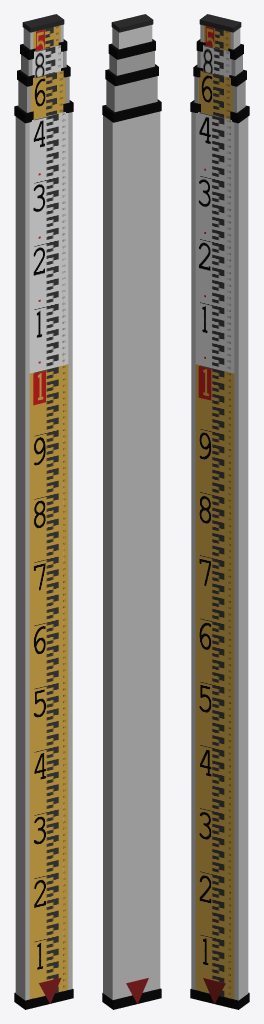
File: Ruler_5m_4.FBX
3 views of the same model, side by side, from view 1: azimuth 30°, elevation 25°; view 2: azimuth 210°, elevation 25°; view 3: azimuth 330°, elevation 25° (orthographic).
Parts seen in each view (by area): view 1: Box16, Box18, Box28, Box19, Prism01; view 2: Box16, Box18, Box28, Box19, Prism02; view 3: Box16, Box18, Box28, Box19, Prism01.
Part boxes in pixels (x1=…): Box16: x1=14, y1=100, x2=73, y2=1009; Box18: x1=17, y1=65, x2=70, y2=119; Box28: x1=20, y1=39, x2=67, y2=77; Box19: x1=22, y1=14, x2=64, y2=50; Prism01: x1=39, y1=978, x2=61, y2=1003; Box16: x1=102, y1=99, x2=161, y2=1009; Box18: x1=105, y1=64, x2=158, y2=111; Box28: x1=108, y1=39, x2=155, y2=75; Box19: x1=111, y1=14, x2=153, y2=49; Prism02: x1=126, y1=978, x2=148, y2=1003; Box16: x1=190, y1=100, x2=249, y2=1009; Box18: x1=193, y1=65, x2=246, y2=119; Box28: x1=196, y1=39, x2=243, y2=77; Box19: x1=199, y1=14, x2=241, y2=50; Prism01: x1=203, y1=978, x2=225, y2=1003.
Bounding box in the file's own units: 79.99 × 34.4 × 1548.
Materials: 2 (1 with a texture image).
